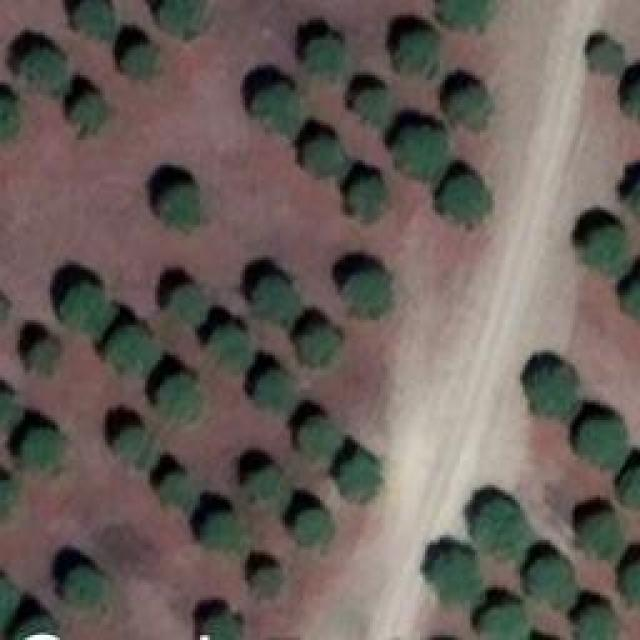Tree: (573, 413, 633, 473), (465, 498, 523, 558), (518, 558, 578, 611), (528, 365, 583, 420), (428, 548, 478, 601), (248, 83, 301, 133), (60, 280, 110, 333), (107, 325, 155, 380), (398, 125, 448, 175), (437, 173, 485, 223), (208, 317, 248, 375), (448, 83, 491, 136), (395, 28, 440, 78), (158, 373, 198, 428), (345, 270, 393, 315), (295, 322, 340, 370), (583, 225, 626, 275), (477, 597, 527, 640), (250, 370, 295, 415), (160, 183, 203, 228), (253, 275, 296, 320), (293, 415, 336, 460), (155, 0, 210, 35), (308, 35, 348, 83), (292, 505, 330, 555), (198, 510, 241, 553), (25, 50, 65, 95), (580, 510, 618, 555), (340, 453, 378, 498), (440, 0, 495, 30), (110, 423, 148, 466), (22, 428, 60, 471), (303, 135, 343, 173), (62, 565, 100, 605), (73, 0, 113, 38), (575, 605, 618, 640), (248, 565, 291, 600), (245, 467, 283, 505), (28, 342, 63, 380), (353, 178, 386, 218), (168, 283, 201, 323), (123, 40, 156, 78), (68, 92, 101, 130), (155, 473, 190, 508), (355, 90, 388, 125), (203, 612, 243, 640), (588, 42, 623, 70), (622, 273, 640, 326), (622, 558, 640, 608), (620, 468, 640, 513), (622, 78, 640, 128), (0, 385, 18, 430), (0, 473, 15, 526)
